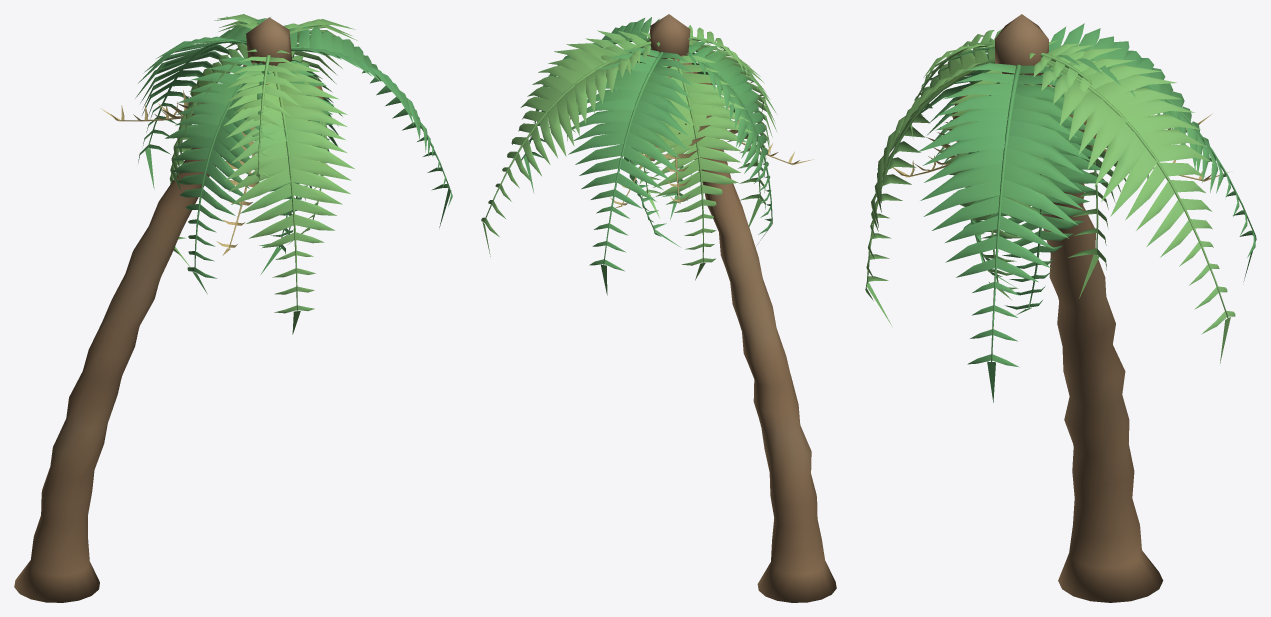
The model's file is palm_b.glb.
3 views of the same model, side by side, from view 1: azimuth 30°, elevation 25°; view 2: azimuth 150°, elevation 25°; view 3: azimuth 270°, elevation 25° (orthographic). The views are drawn at different scales.
Visible parts, largest first — view 1: palm_b; view 2: palm_b; view 3: palm_b.
Part boxes in pixels (x1=…): palm_b: x1=14, y1=14, x2=452, y2=602; palm_b: x1=481, y1=14, x2=836, y2=602; palm_b: x1=865, y1=14, x2=1256, y2=602.
Size of the model in its own units: 5.06 by 6.99 by 3.69.
